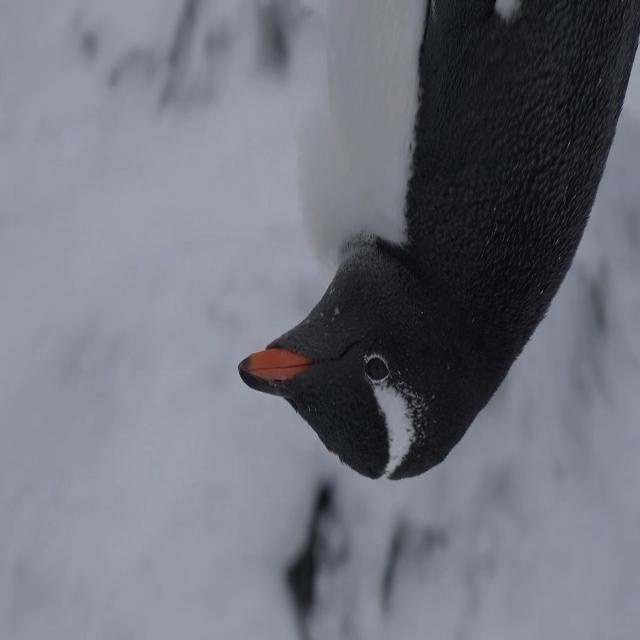penguin: (237, 1, 637, 479)
